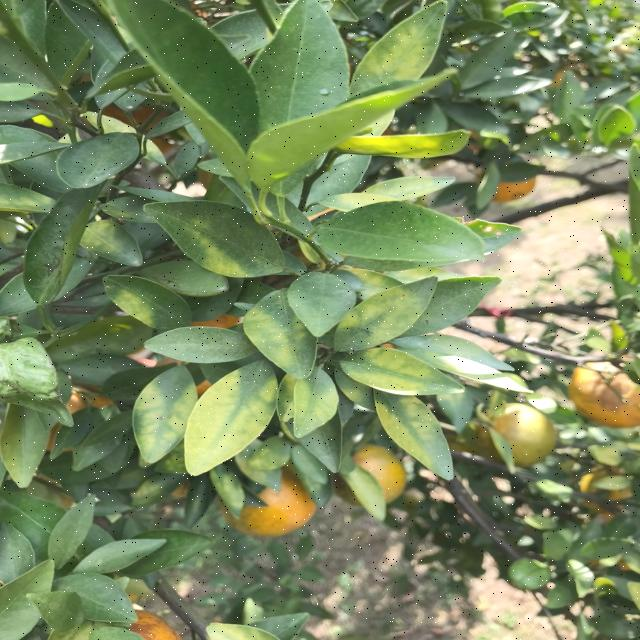blackspot: (337, 282, 431, 347), (131, 372, 190, 453), (18, 221, 76, 299), (361, 354, 457, 399)
